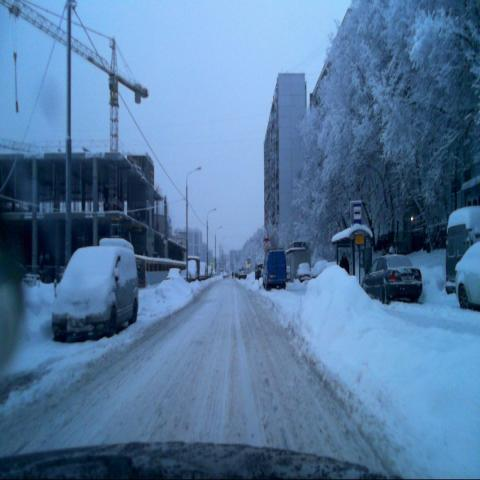5_16: (352, 200, 361, 222)
